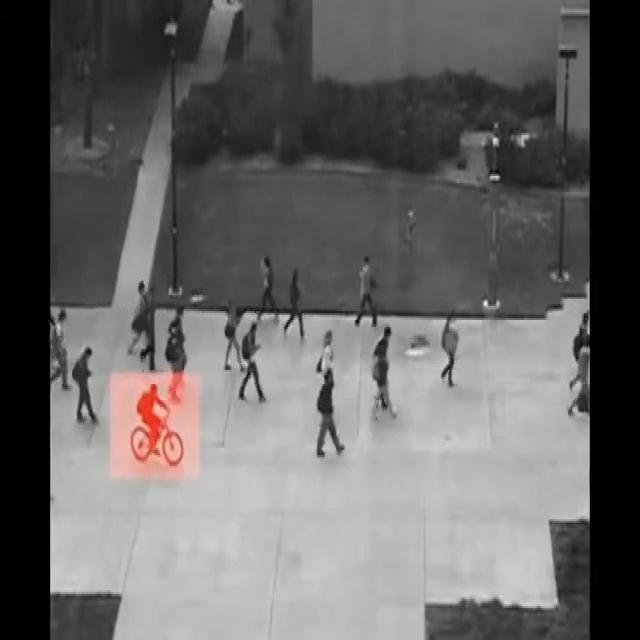anamoly: (123, 358, 195, 492)
